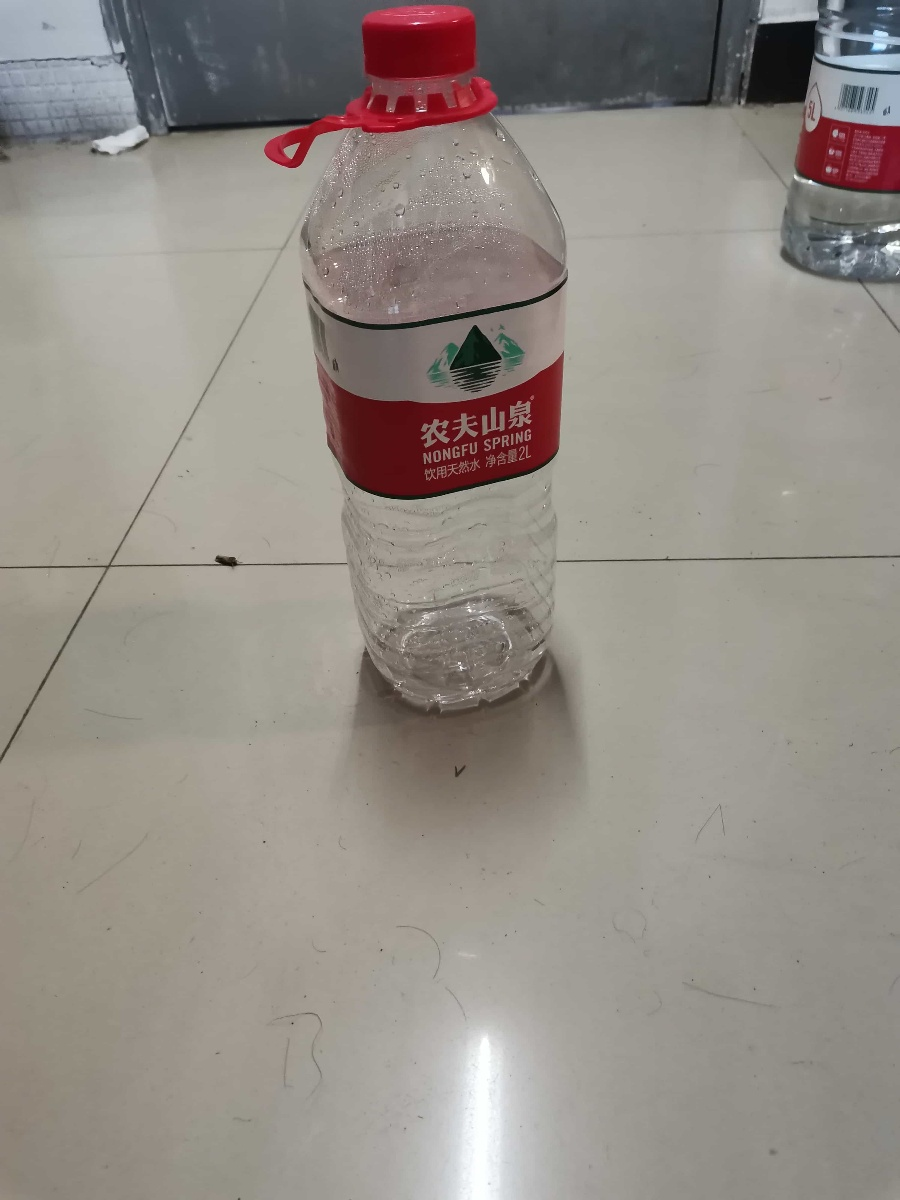plastic bottle: (255, 9, 580, 724), (767, 7, 891, 295)
